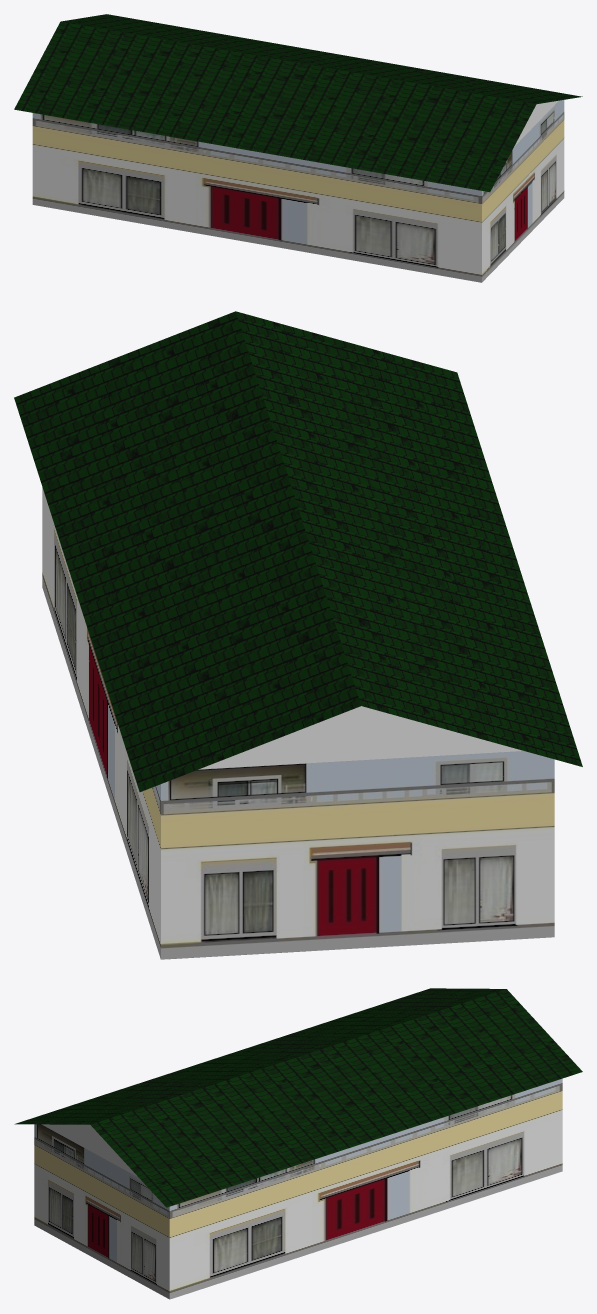
3 renders of one model, top to bottom at view 1: azimuth 30°, elevation 25°; view 2: azimuth 150°, elevation 25°; view 3: azimuth 270°, elevation 25°, orthographic. The views are drawn at different scales.
Parts seen in each view (by area): view 1: CityEngineMaterial_13_m, CityEngineMaterial_15_m, CityEngineMaterial_3_m; view 2: CityEngineMaterial_13_m, CityEngineMaterial_15_m, CityEngineMaterial_3_m; view 3: CityEngineMaterial_13_m, CityEngineMaterial_15_m, CityEngineMaterial_3_m.
Part boxes in pixels (<box>): CityEngineMaterial_13_m: <box>14,14,582,192</box>; CityEngineMaterial_15_m: <box>32,100,564,282</box>; CityEngineMaterial_3_m: <box>514,100,558,146</box>; CityEngineMaterial_13_m: <box>14,311,582,791</box>; CityEngineMaterial_15_m: <box>42,487,554,959</box>; CityEngineMaterial_3_m: <box>199,706,523,769</box>; CityEngineMaterial_13_m: <box>14,988,582,1207</box>; CityEngineMaterial_15_m: <box>34,1078,562,1299</box>; CityEngineMaterial_3_m: <box>42,1124,138,1177</box>.
Size of the model in its own units: 35.03 by 10.54 by 38.4.
